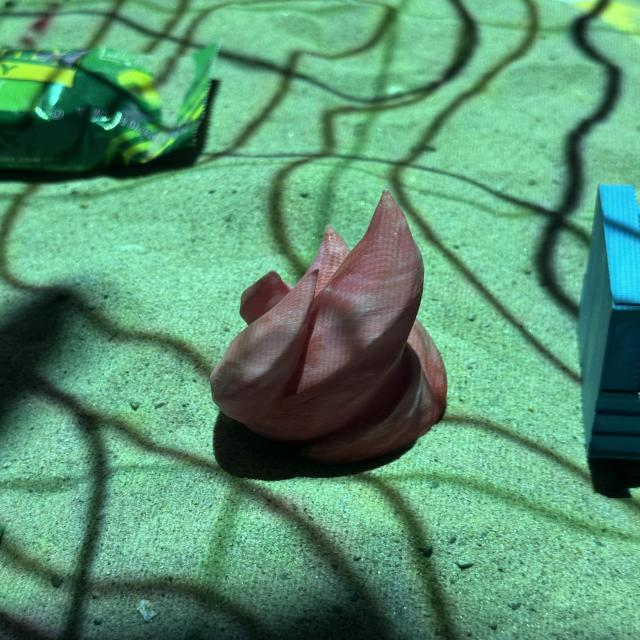fire: (208, 189, 449, 468)
house: (575, 182, 639, 468)
